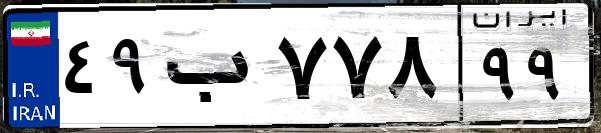4: (57, 26, 110, 100)
7: (270, 28, 330, 110), (330, 28, 385, 110)
8: (385, 28, 445, 110)
9: (475, 38, 525, 113), (525, 38, 570, 115), (110, 28, 158, 98)
ب: (158, 20, 270, 120)
